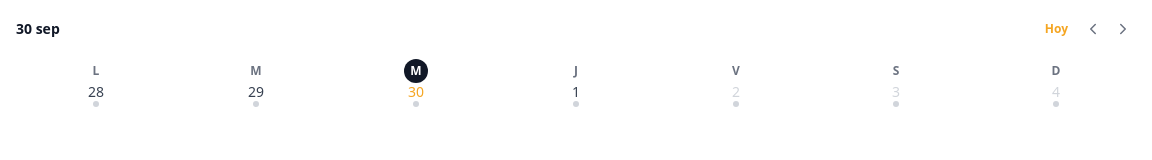
Test: WeekCalendarHeader — week chevrons (WN-1) › previous chevron shifts the strip back 7 days without selecting
The image size is (1152, 160).
Expected: the button named "2026-09-28" is shown, [16,55,176,111]
Click the button named "Semana anterior": point(1093, 29) [1080,16,1106,42]
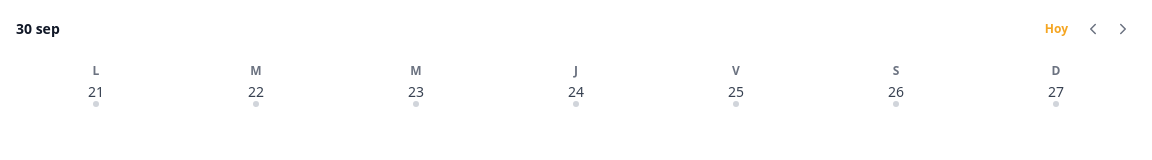
Result: the button named "2026-09-21" is shown at [16,55,176,111]
Result: the button named "2026-09-27" is shown at [976,55,1136,111]
Result: the button labelled "2026-09-28" is gone
